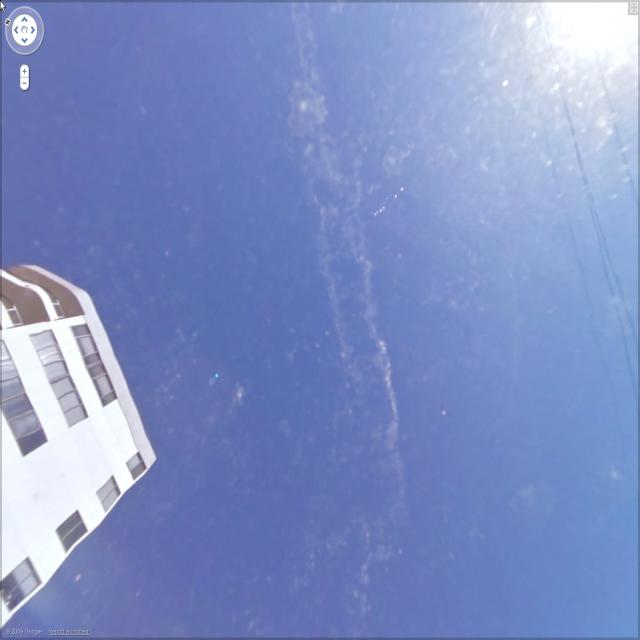b_1: (1, 252, 153, 630)
